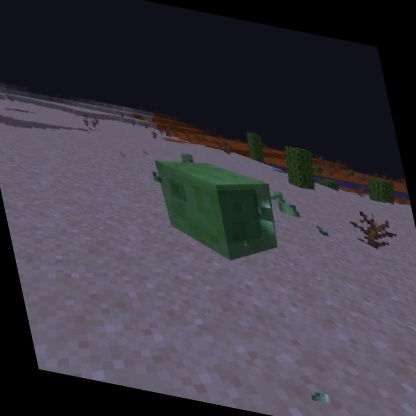slime: (148, 148, 294, 276)
